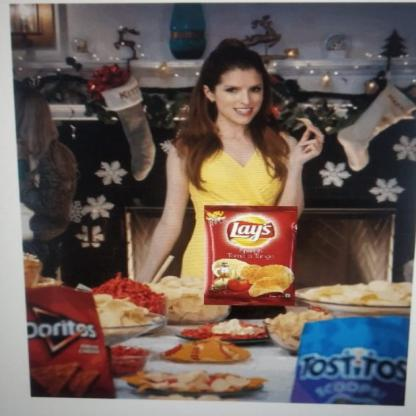tangy_tomato: (198, 203, 301, 308)
